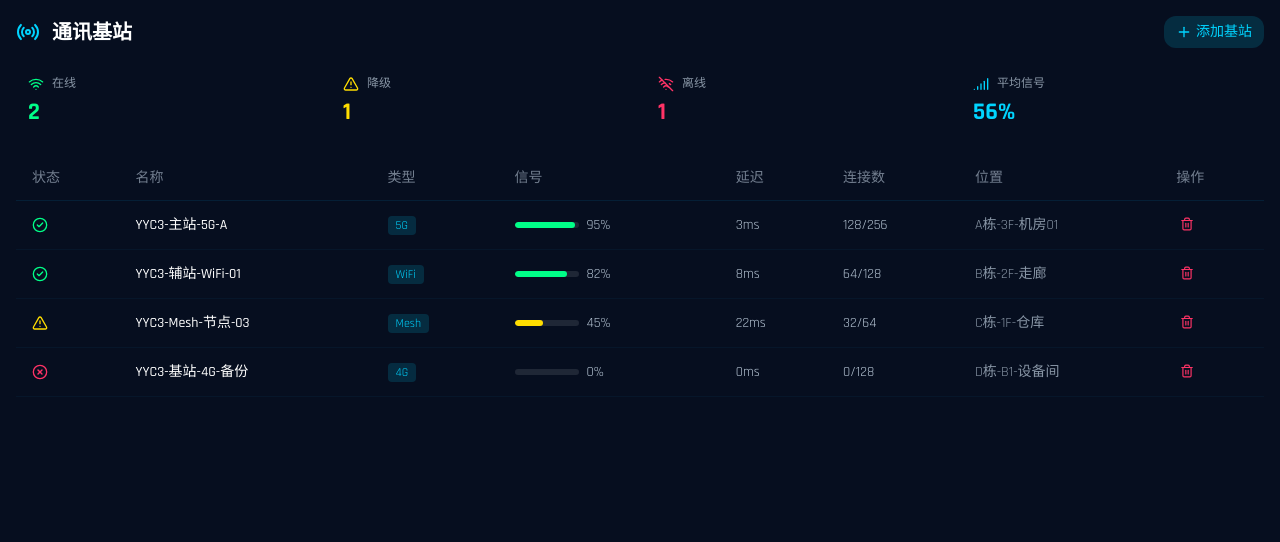
CommStationPanel › 详情面板 › clicking again hides detail panel
Click the text "YYC3-主站-5G-A" at (181, 225), box [120, 200, 372, 250]
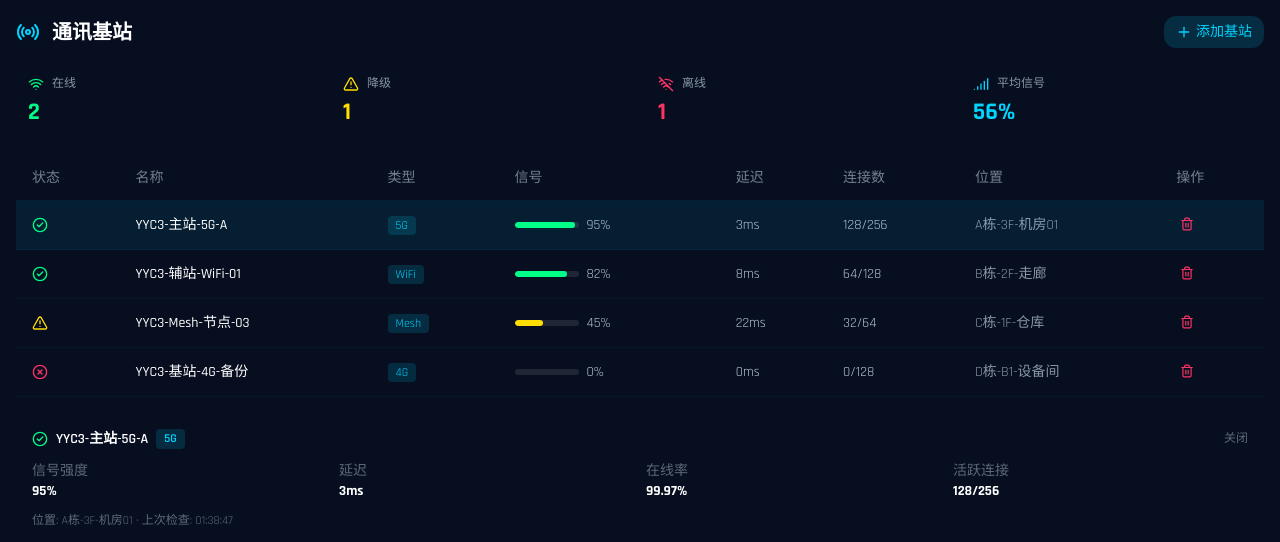
Check: the text "信号强度" is shown, box [32, 462, 88, 480]
Click the text "YYC3-主站-5G-A" at (181, 225), box [120, 200, 372, 250]
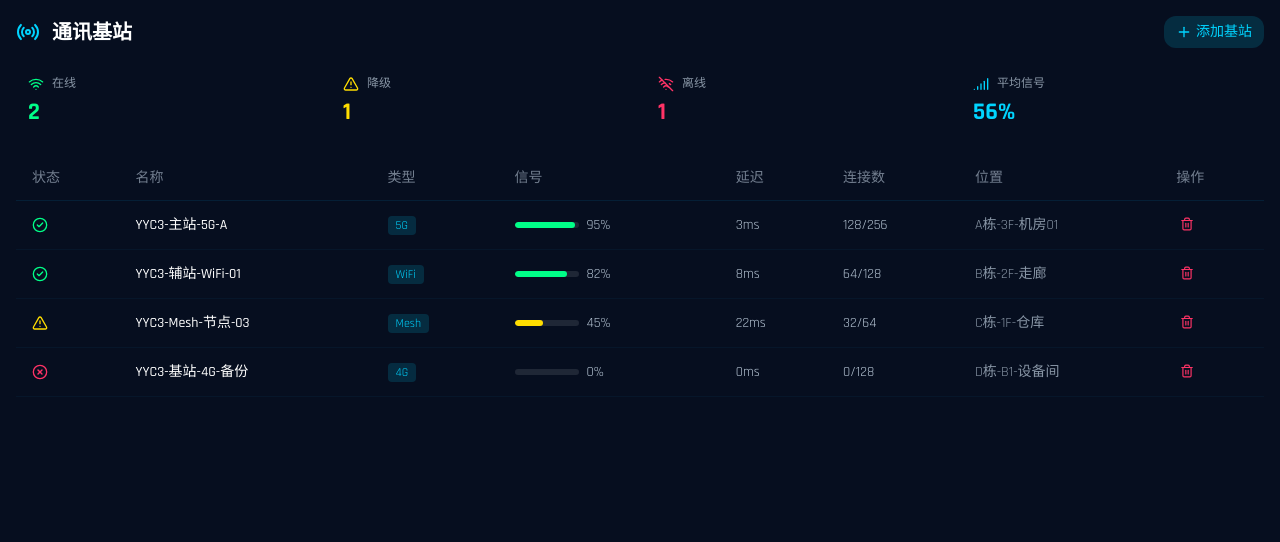
Check: the text "信号强度" is gone
